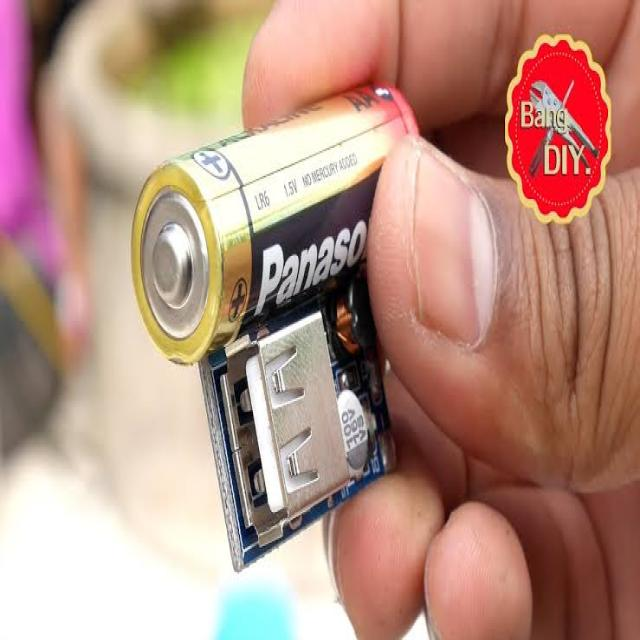battery: (124, 31, 463, 384)
